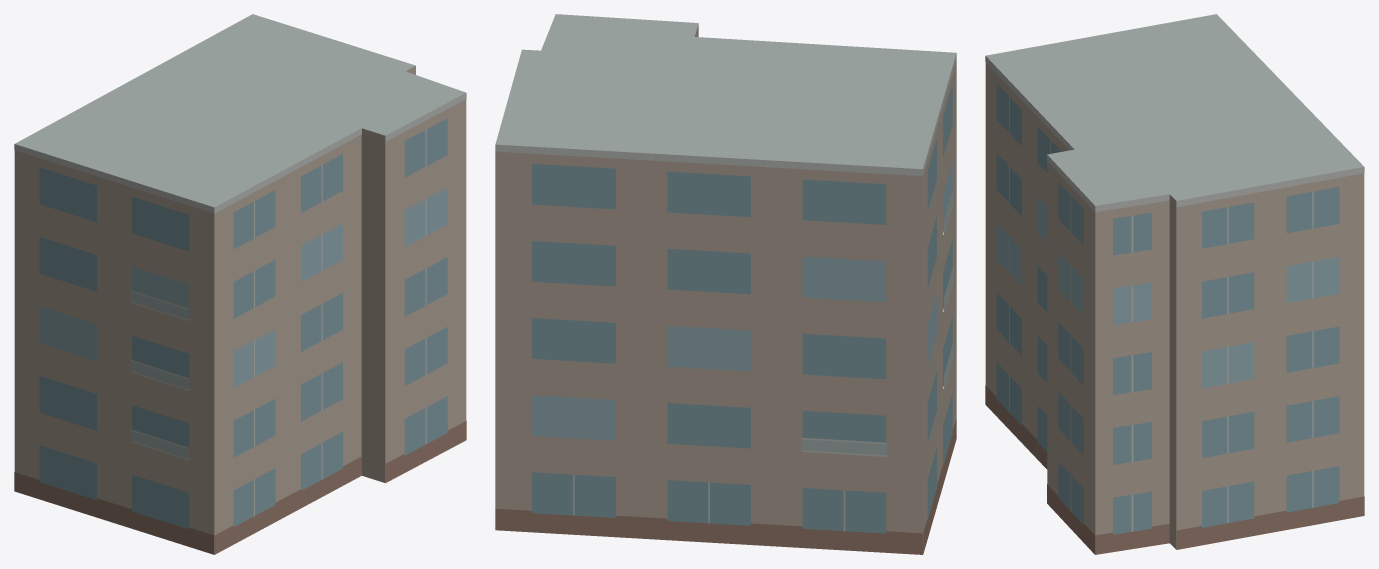
The model's file is survey-upis-32846401.glb.
The picture shows the model from 3 angles, left to right: view 1: azimuth 30°, elevation 25°; view 2: azimuth 150°, elevation 25°; view 3: azimuth 270°, elevation 25°; orthographic projection. The views are drawn at different scales.
Visible parts, largest first — view 1: survey-upis-32846401.tmp; view 2: survey-upis-32846401.tmp; view 3: survey-upis-32846401.tmp.
Part boxes in pixels (x1,y1,x2,y2): survey-upis-32846401.tmp: (14,14,466,554); survey-upis-32846401.tmp: (495,14,956,554); survey-upis-32846401.tmp: (985,14,1364,554).
Size of the model in its own units: 15.93 by 13.5 by 13.3.
